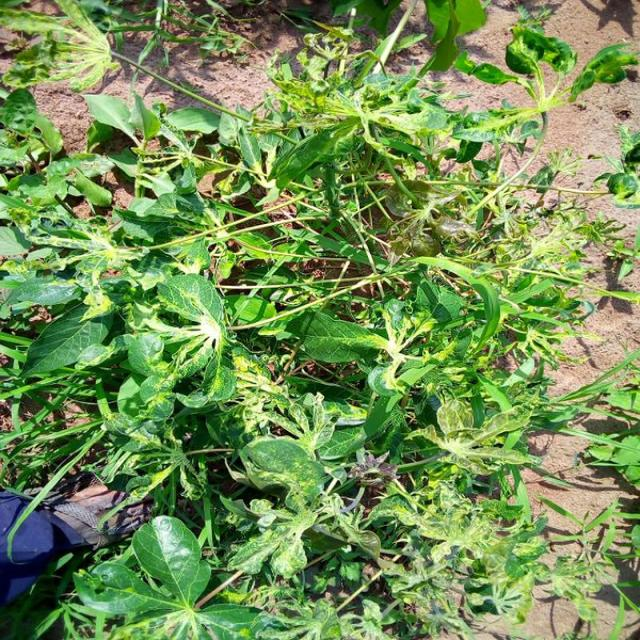cassava leaf: (0, 1, 638, 638), (130, 513, 210, 607), (239, 433, 326, 508)
